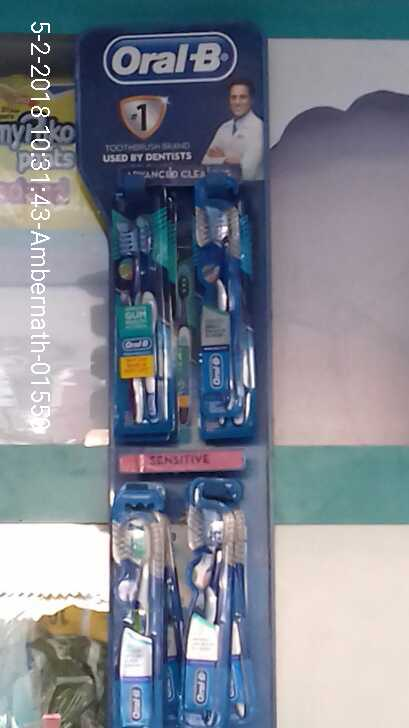oralb: (187, 184, 254, 431), (183, 511, 252, 728), (110, 504, 166, 728), (116, 212, 166, 427)
